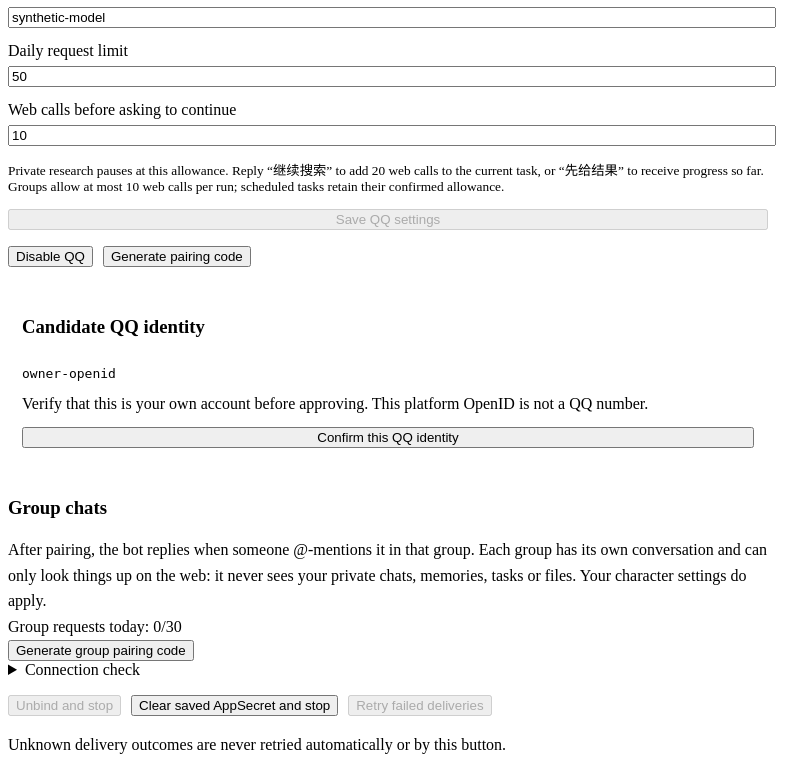
requires an explicit desktop click to approve a candidate identity
(page scrolled)
Expected: the text "owner-openid" is shown, [22, 366, 116, 381]
Step 1. Click the button "Confirm this QQ identity" → [388, 437], box [22, 427, 754, 448]
(page scrolled)
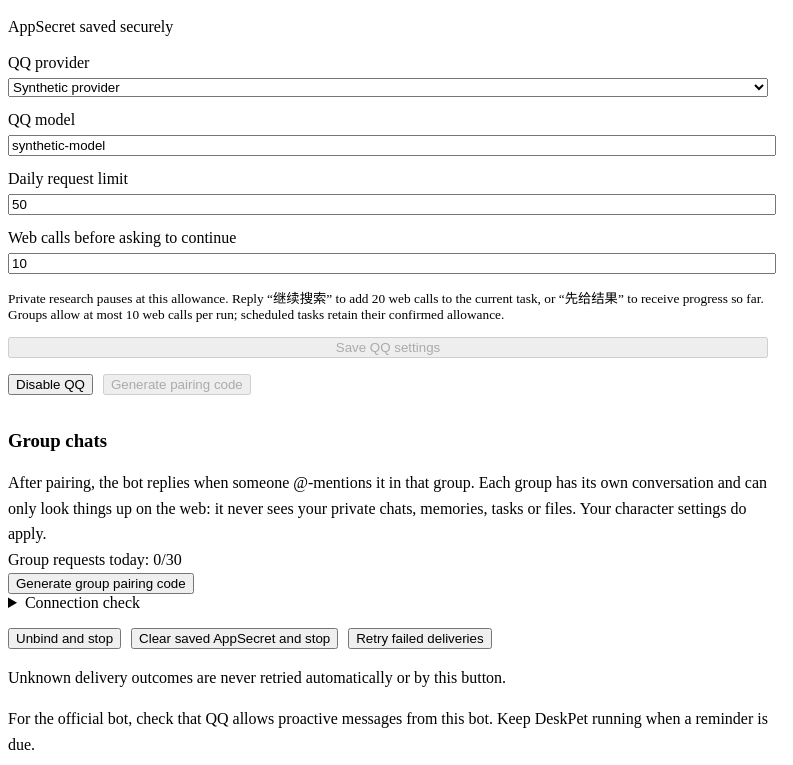
Now the text "owner-openid" is gone
